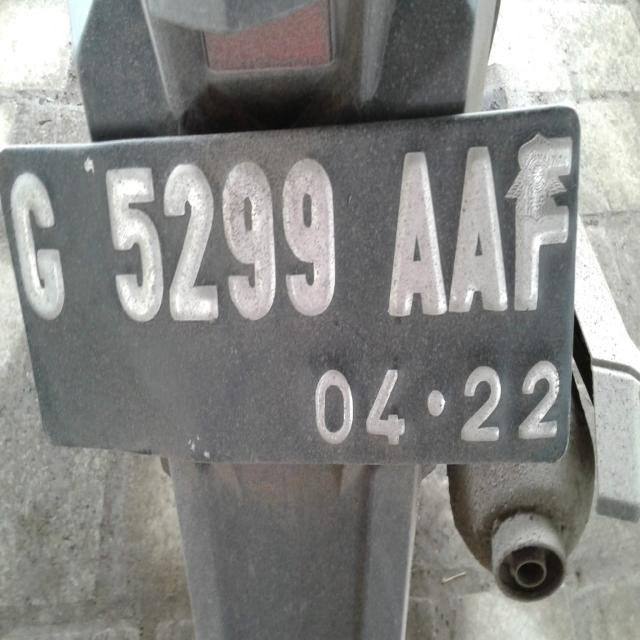plate: (2, 108, 578, 465)
